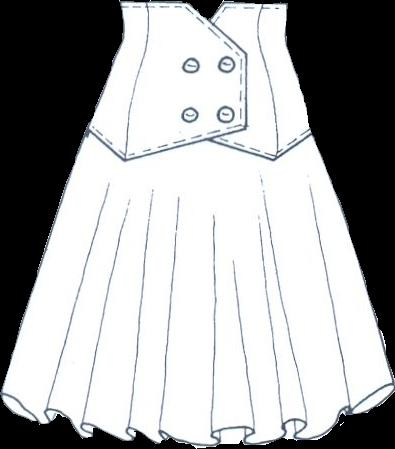Hemline: (1, 381, 394, 446)
Waistline: (86, 126, 311, 162), (121, 0, 287, 25)
